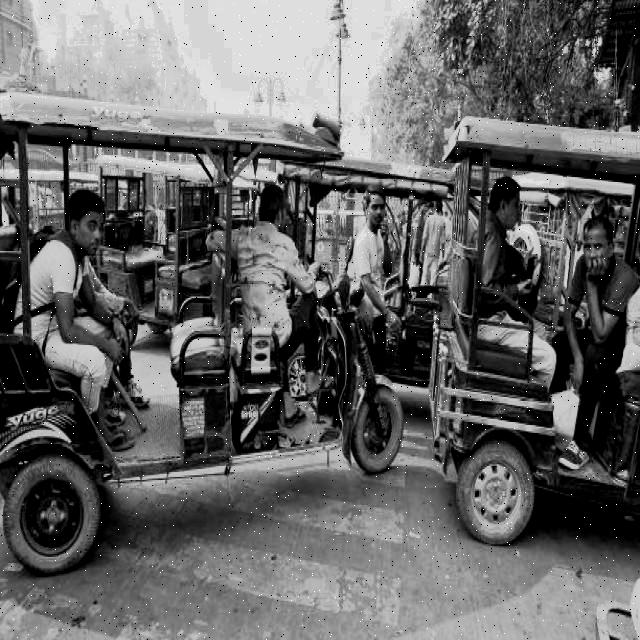Toto: (0, 86, 418, 573), (435, 110, 640, 552)
